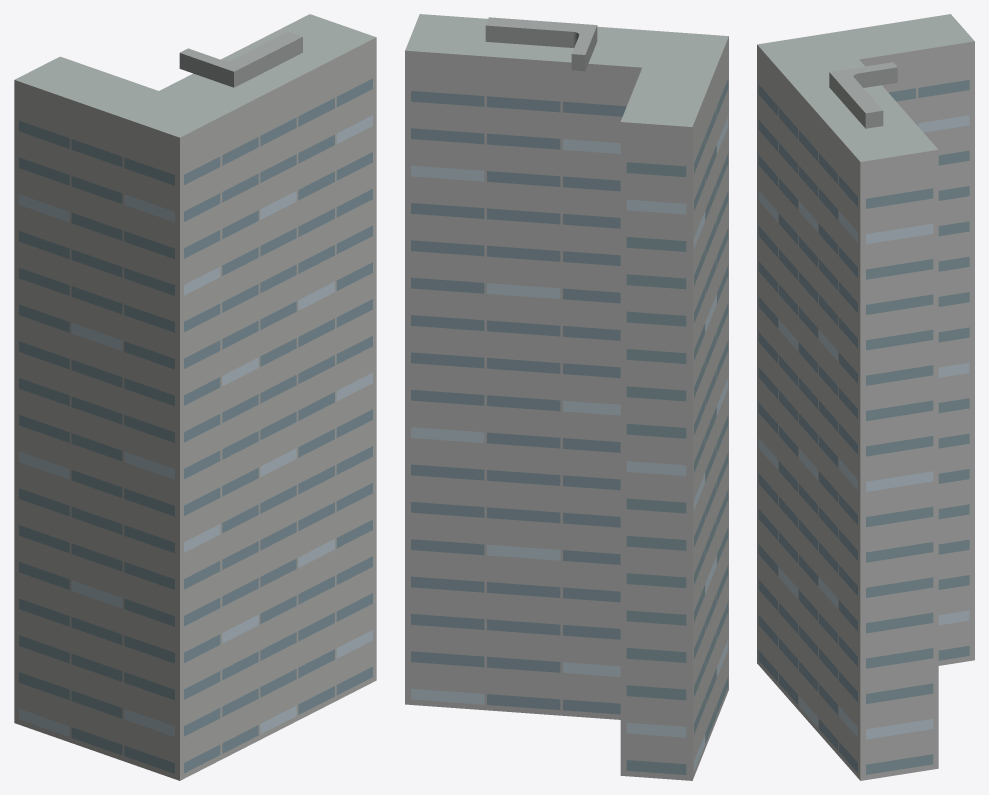
Rendered from fallback-songpa-helio-city-111.glb.
3 views of the same model, side by side, from view 1: azimuth 30°, elevation 25°; view 2: azimuth 150°, elevation 25°; view 3: azimuth 270°, elevation 25° (orthographic). The views are drawn at different scales.
Visible parts, largest first — view 1: fallback-songpa-helio-city-111; view 2: fallback-songpa-helio-city-111; view 3: fallback-songpa-helio-city-111.
Boxes of the visible parts, left/top/right/bottom form: fallback-songpa-helio-city-111: left=14, top=14, right=376, bottom=780; fallback-songpa-helio-city-111: left=405, top=14, right=728, bottom=780; fallback-songpa-helio-city-111: left=757, top=14, right=974, bottom=780.
Bounding box in the file's own units: 49.55 × 99 × 30.81.
